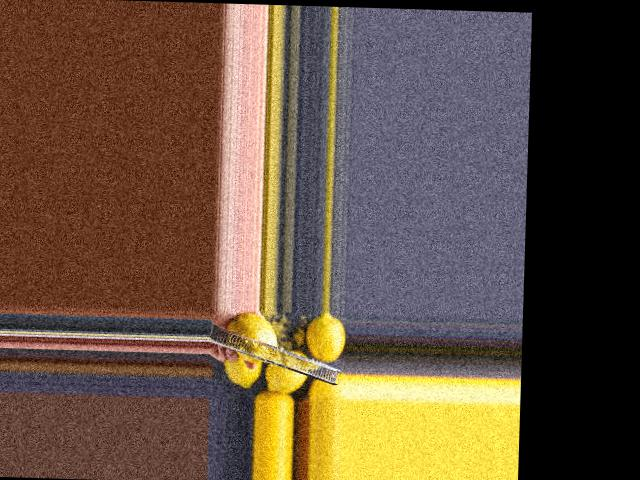lemon: (298, 313, 345, 361)
